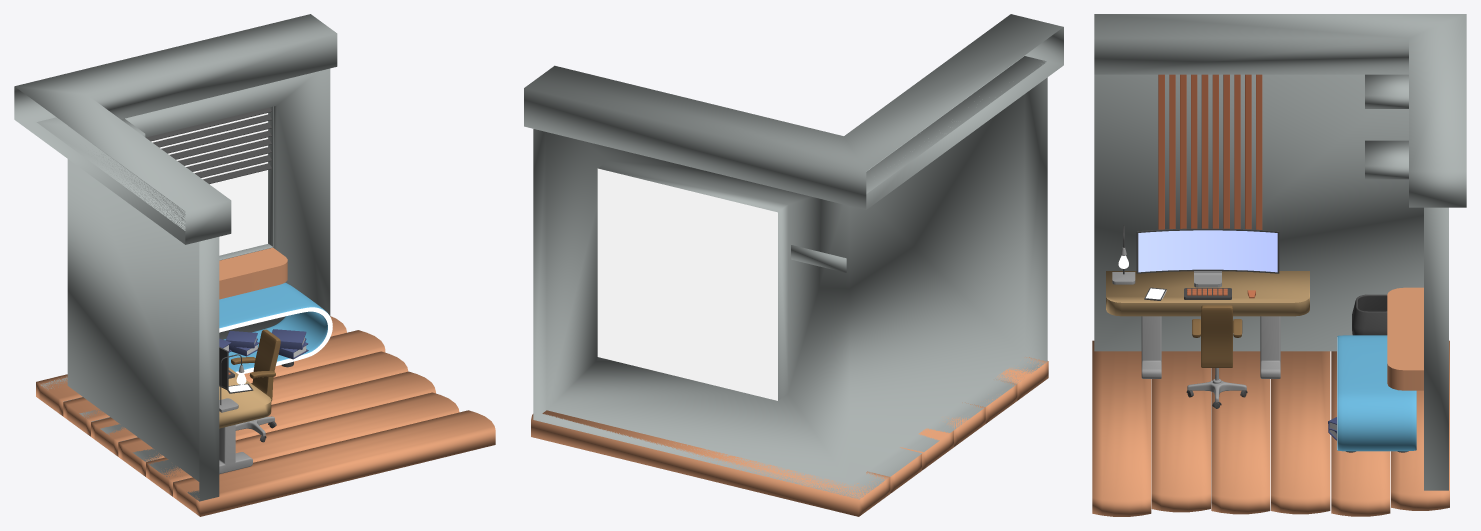
3 views of the same model, side by side, from view 1: azimuth 30°, elevation 25°; view 2: azimuth 150°, elevation 25°; view 3: azimuth 270°, elevation 25° (orthographic). The views are drawn at different scales.
Visible parts, largest first — view 1: Plane, Plane.002, Plane.011, Plane.005, Plane.038, Plane.037, Plane.004, Circle.002, Plane.003, Plane.010, Plane.033; view 2: Plane, Plane.038, Plane.002; view 3: Plane, Plane.002, Plane.029, Plane.005, Plane.004, Plane.009, Plane.037, Plane.003, Circle.002, Plane.007, Circle, Plane.008.
Boxes of the visible parts, x1,y1,x2,y2 form: Plane: (14, 14, 337, 501); Plane.002: (36, 316, 495, 516); Plane.011: (146, 107, 271, 184); Plane.005: (219, 282, 332, 374); Plane.038: (151, 113, 267, 255); Plane.037: (219, 247, 287, 299); Plane.004: (219, 367, 271, 428); Circle.002: (252, 329, 280, 401); Plane.003: (219, 424, 252, 474); Plane.010: (219, 106, 273, 260); Plane.033: (271, 329, 306, 349); Plane: (524, 14, 1063, 499); Plane.038: (597, 168, 777, 400); Plane.002: (531, 357, 1048, 516); Plane: (1094, 14, 1466, 490); Plane.002: (1092, 340, 1449, 516); Plane.029: (1158, 74, 1262, 229); Plane.005: (1337, 335, 1416, 451); Plane.004: (1106, 271, 1309, 316); Plane.009: (1136, 228, 1279, 273); Plane.037: (1387, 287, 1423, 390); Plane.003: (1141, 316, 1280, 378); Circle.002: (1201, 305, 1232, 367); Plane.007: (1352, 294, 1387, 335); Circle: (1187, 368, 1246, 402); Plane.008: (1194, 271, 1221, 287).
Bounding box in the file's own units: 2.23 × 2.09 × 2.11.
